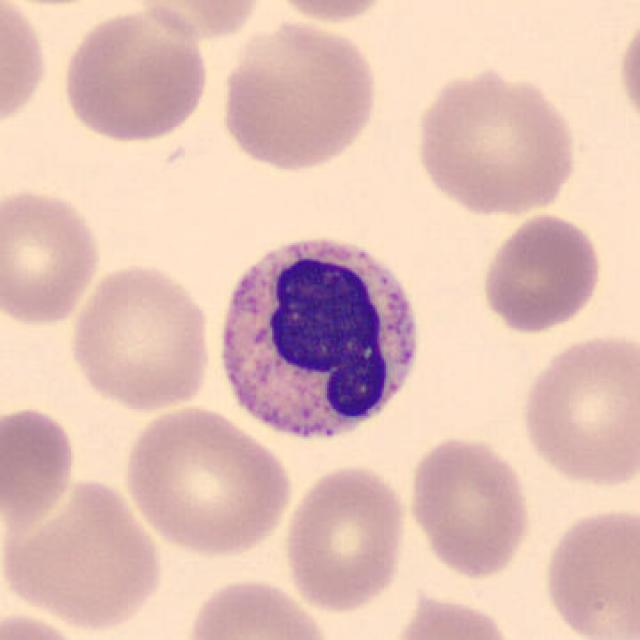Neutrophil: (206, 224, 432, 460)
RBC: (119, 402, 295, 559), (215, 14, 382, 175), (409, 64, 581, 218), (2, 474, 167, 633), (64, 259, 217, 414), (57, 3, 213, 146), (279, 460, 413, 615), (516, 328, 638, 490), (404, 432, 535, 582), (476, 210, 604, 337), (0, 183, 105, 330), (539, 502, 638, 640), (0, 400, 80, 538), (181, 575, 338, 640), (0, 0, 52, 134), (384, 589, 519, 640), (119, 0, 268, 42), (256, 0, 402, 26), (613, 5, 640, 140), (0, 606, 96, 640)
